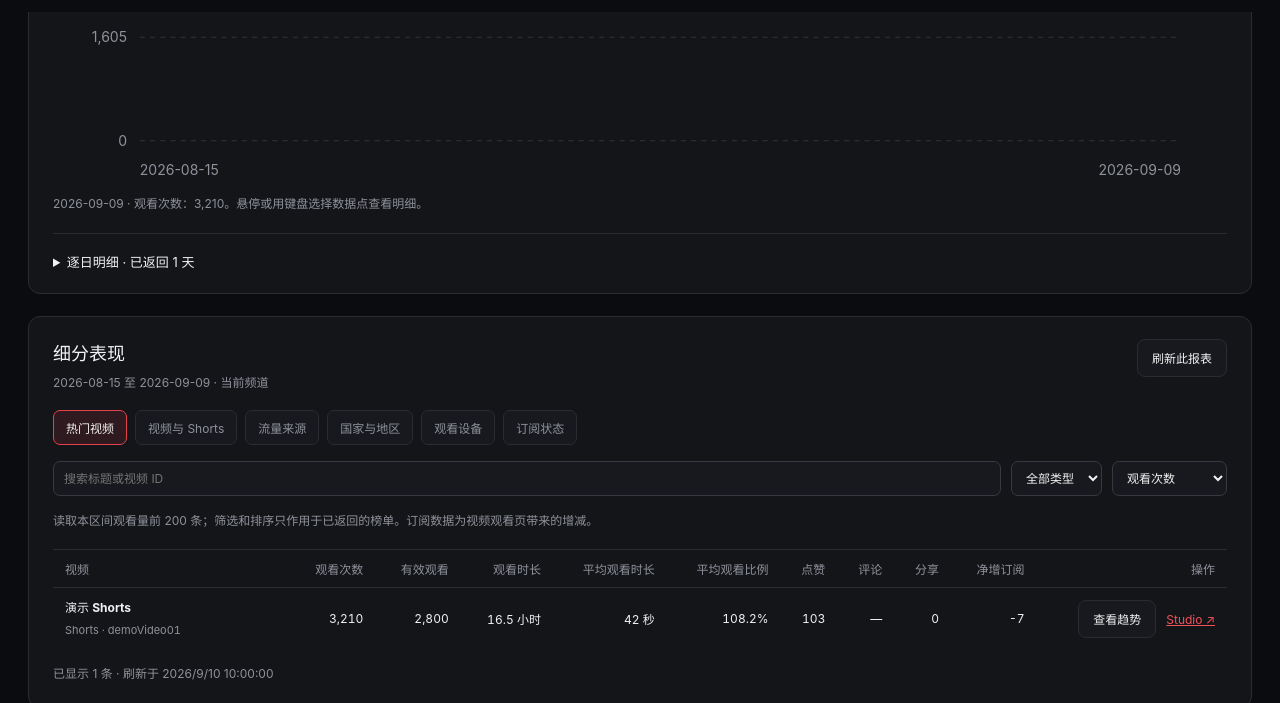
Scenario: loads only the selected detail report and enters and leaves a single video scope
(page scrolled)
Click the button with aria-label "查看 演示 Shorts 的趋势" at (1117, 619), box x1=1078 y1=600 x2=1156 y2=638
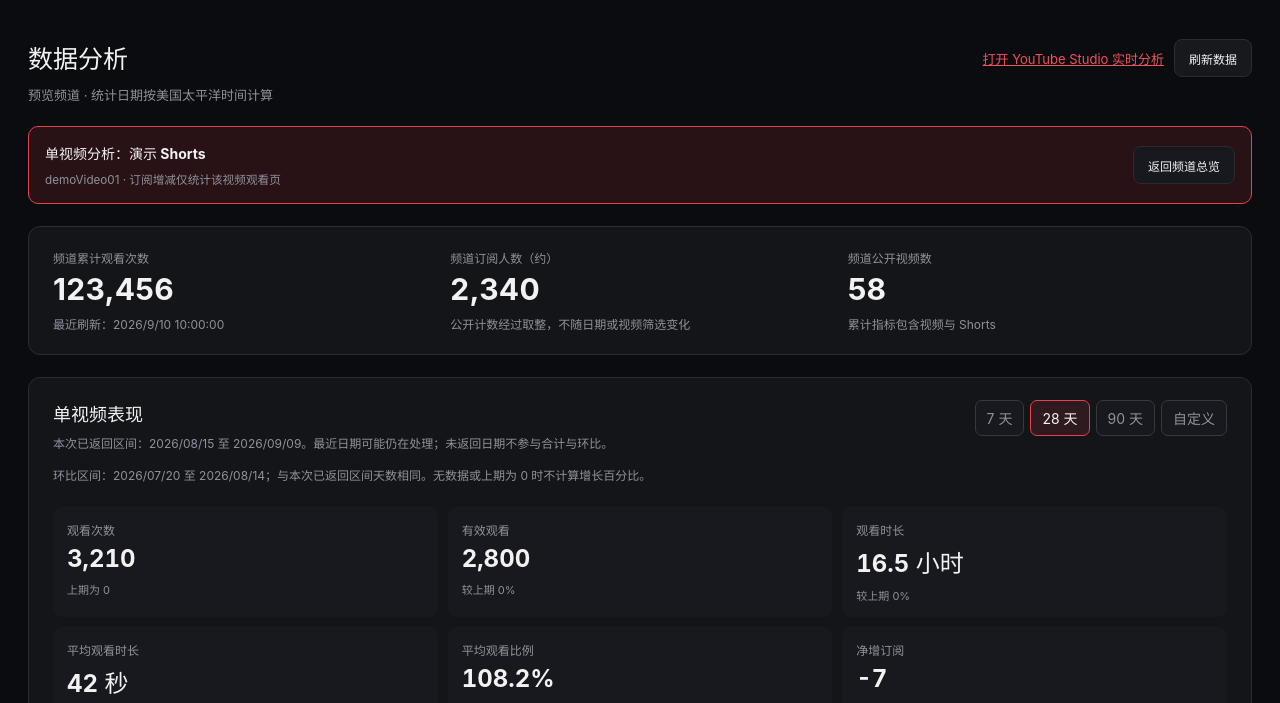
Now the heading "单视频表现" is shown, box x1=53 y1=404 x2=143 y2=425
Now the button "热门视频" is gone
Click the button "返回频道总览" at (1184, 165), box x1=1133 y1=146 x2=1235 y2=184
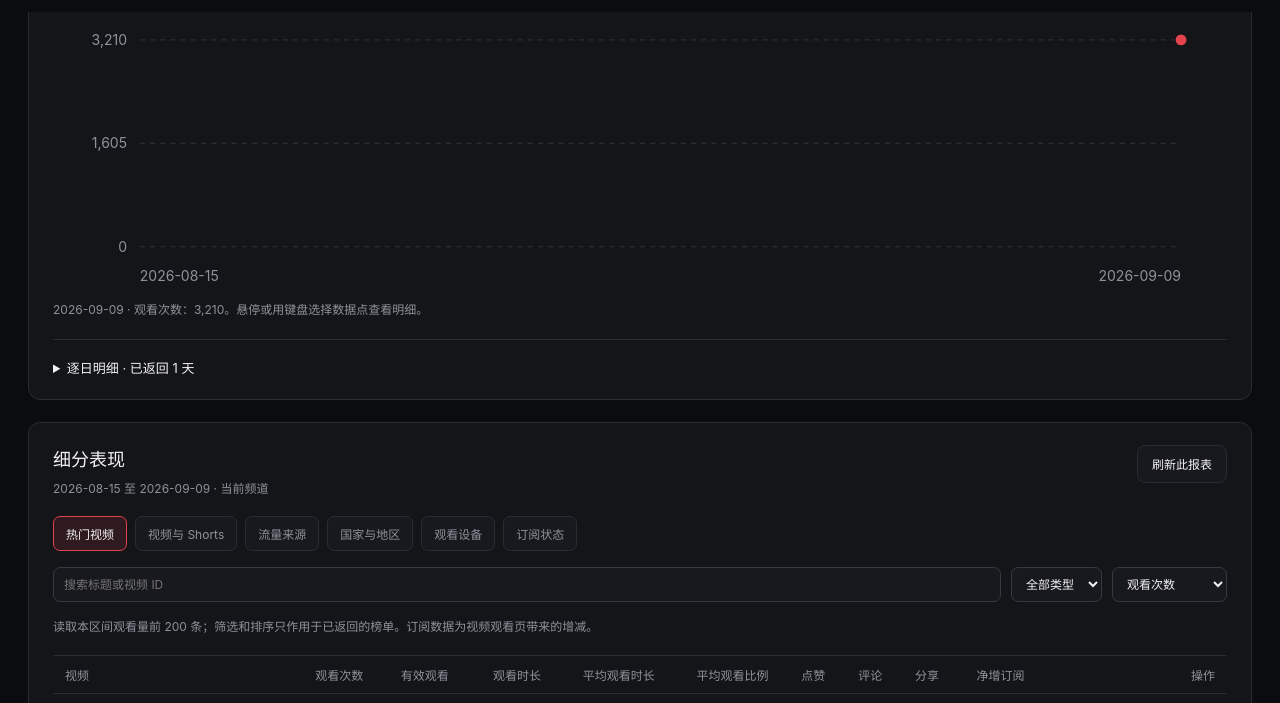
Now the button "热门视频" is shown, box x1=53 y1=516 x2=127 y2=551
